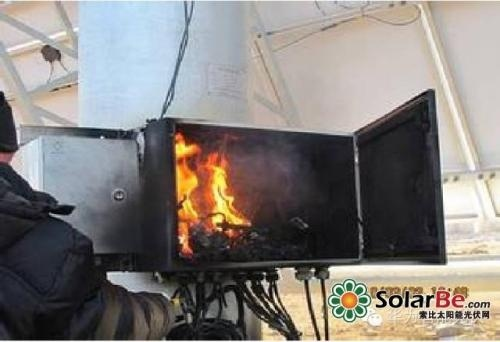fire: (172, 128, 250, 247)
